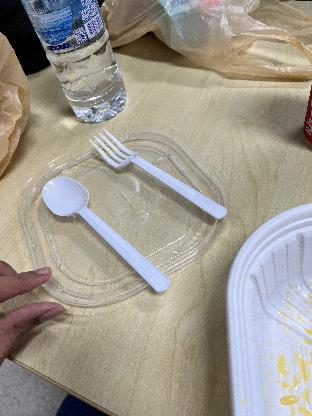Others: (42, 172, 170, 294), (83, 130, 226, 218)
Plastic Bottle: (18, 0, 130, 124)
